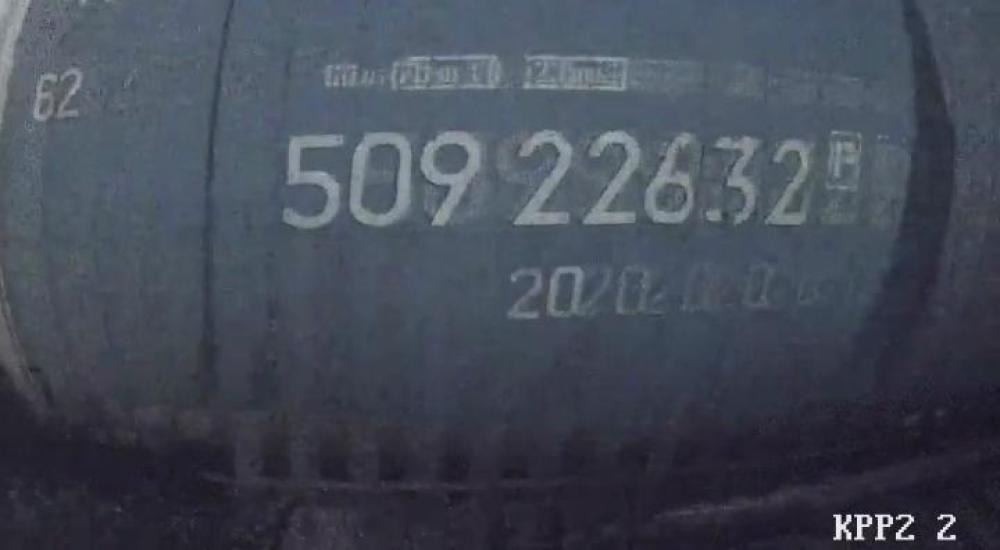Wagon-number: (277, 124, 818, 234)
